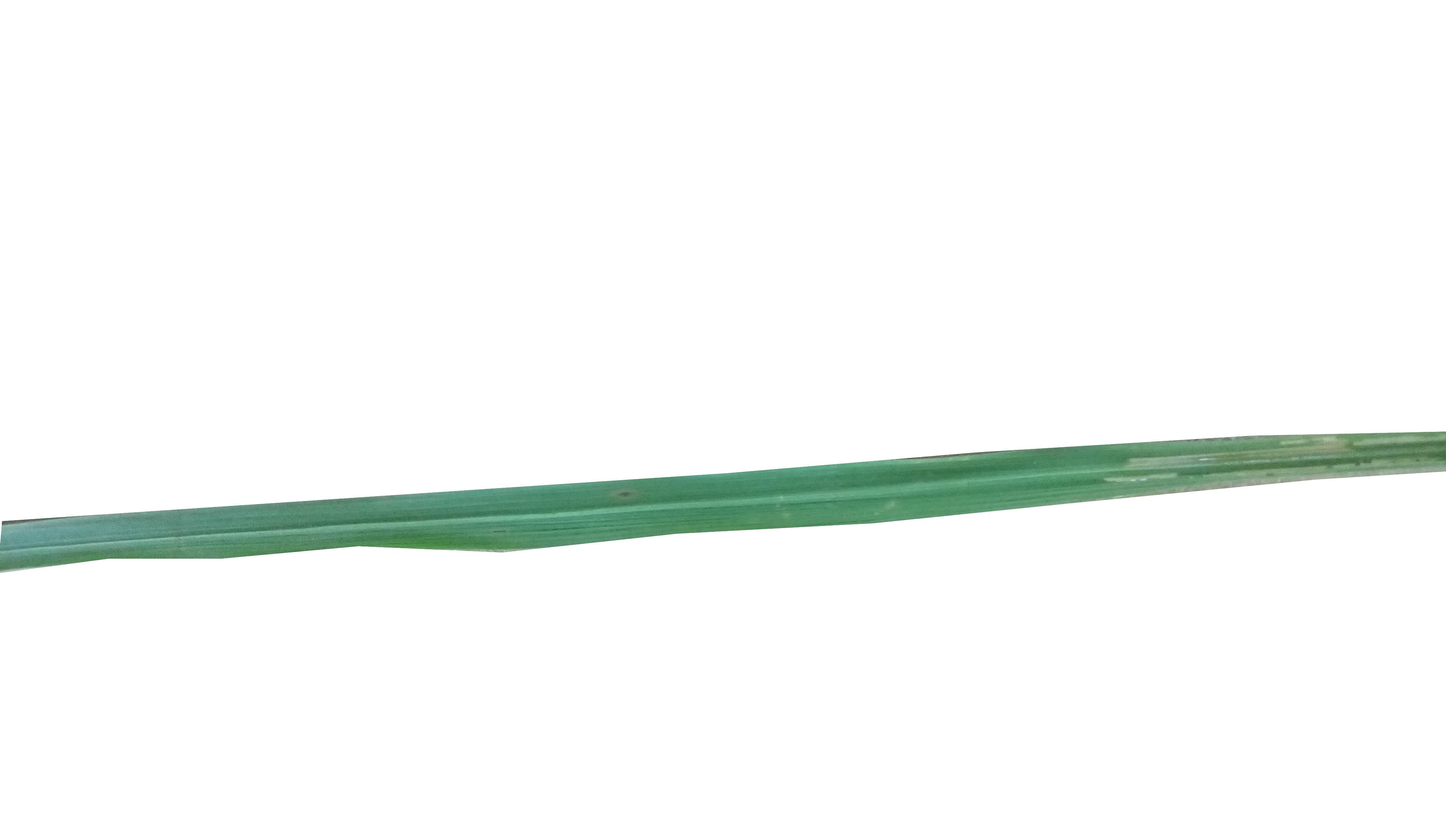Blight: (1124, 455, 1196, 474), (1281, 444, 1342, 461)
Brown spot: (614, 485, 638, 505)
